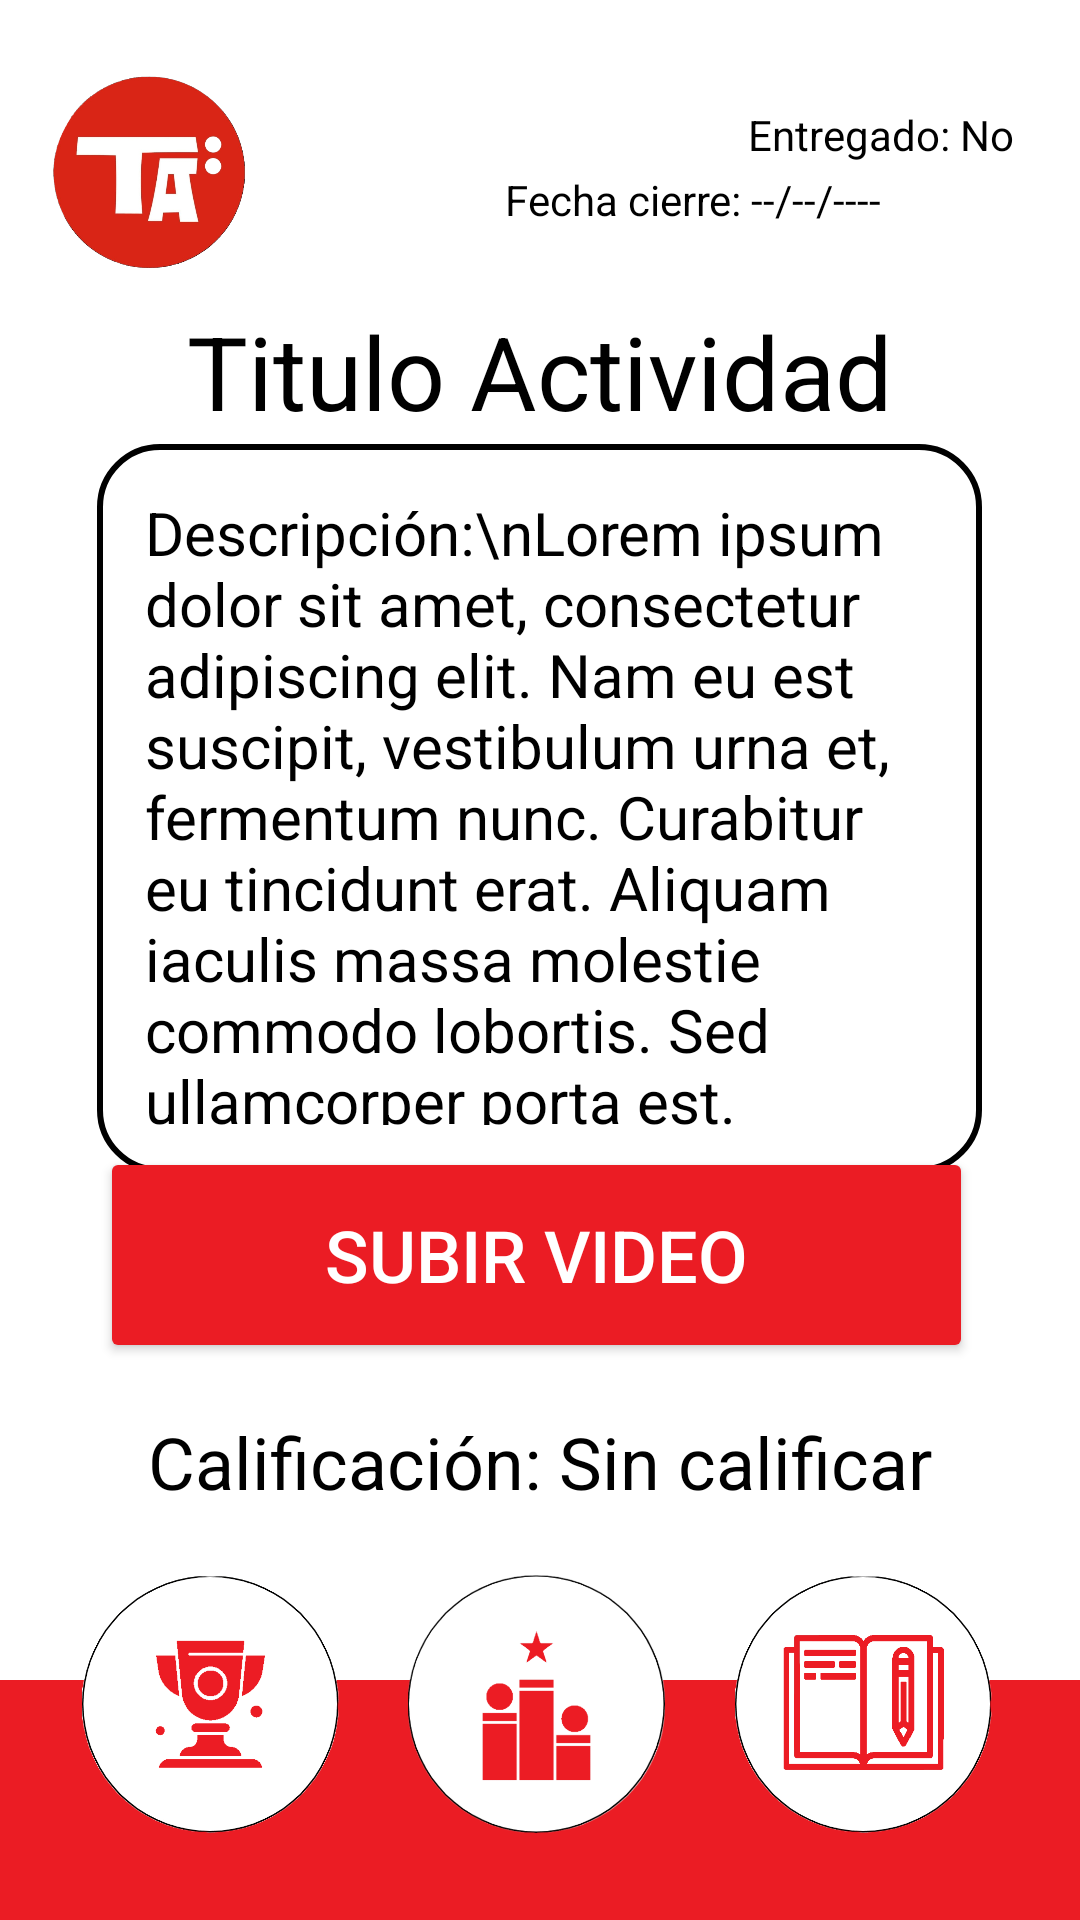

Icons on this 1080*1920 Android screen, each with the point to tap as point (x, y):
actividades: point (863, 1704)
ranking: point (536, 1704)
trofeo: point (210, 1704)
